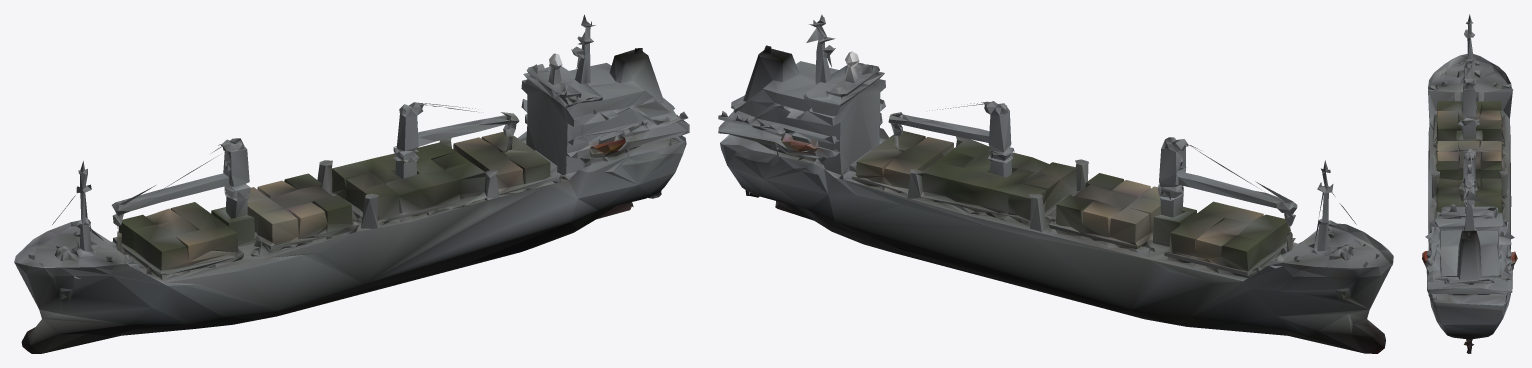
Rendered from transport.glb.
3 views of the same model, side by side, from view 1: azimuth 30°, elevation 25°; view 2: azimuth 150°, elevation 25°; view 3: azimuth 270°, elevation 25° (orthographic). The views are drawn at different scales.
Parts seen in each view (by area): view 1: transport; view 2: transport; view 3: transport.
Boxes of the visible parts, x1,y1,x2,y2 form: transport: (14, 14, 689, 353); transport: (718, 14, 1393, 353); transport: (1422, 14, 1517, 353).
Bounding box in the file's own units: 1.9 × 0.5647 × 0.325.
